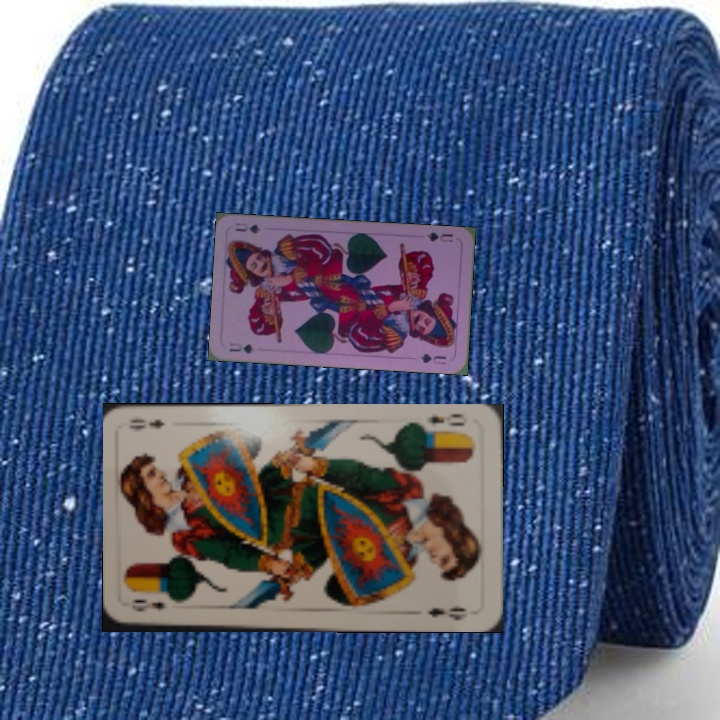EO: (418, 411, 467, 438), (127, 596, 168, 614)
GU: (422, 228, 456, 245), (225, 338, 257, 356)
